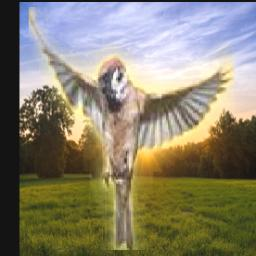Sparrow: (29, 7, 235, 250)
